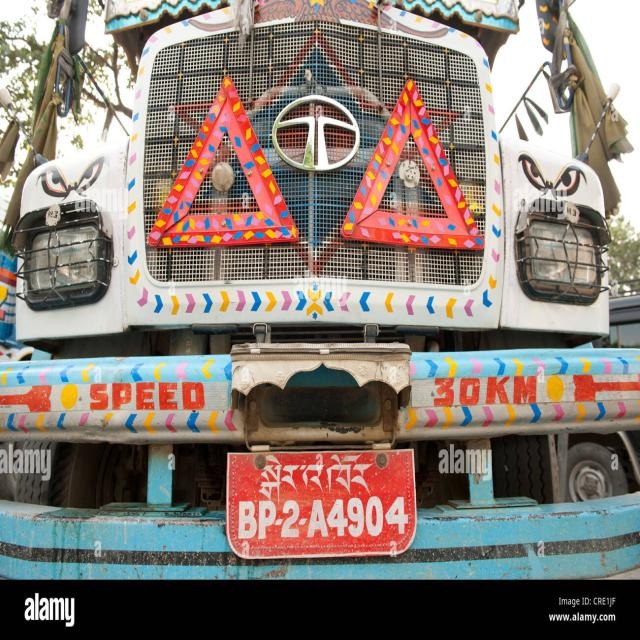Plate: (222, 458, 422, 556)
truck: (8, 0, 640, 623)
